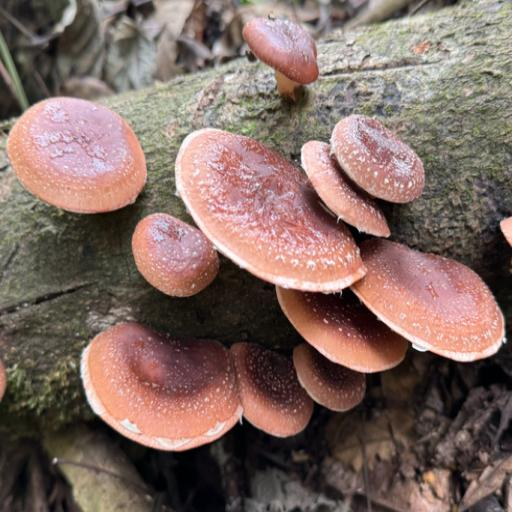Shiitake Mushroom: (76, 191, 501, 492), (159, 124, 378, 301), (0, 90, 148, 223), (299, 111, 425, 230), (129, 212, 221, 296), (246, 5, 327, 91)
